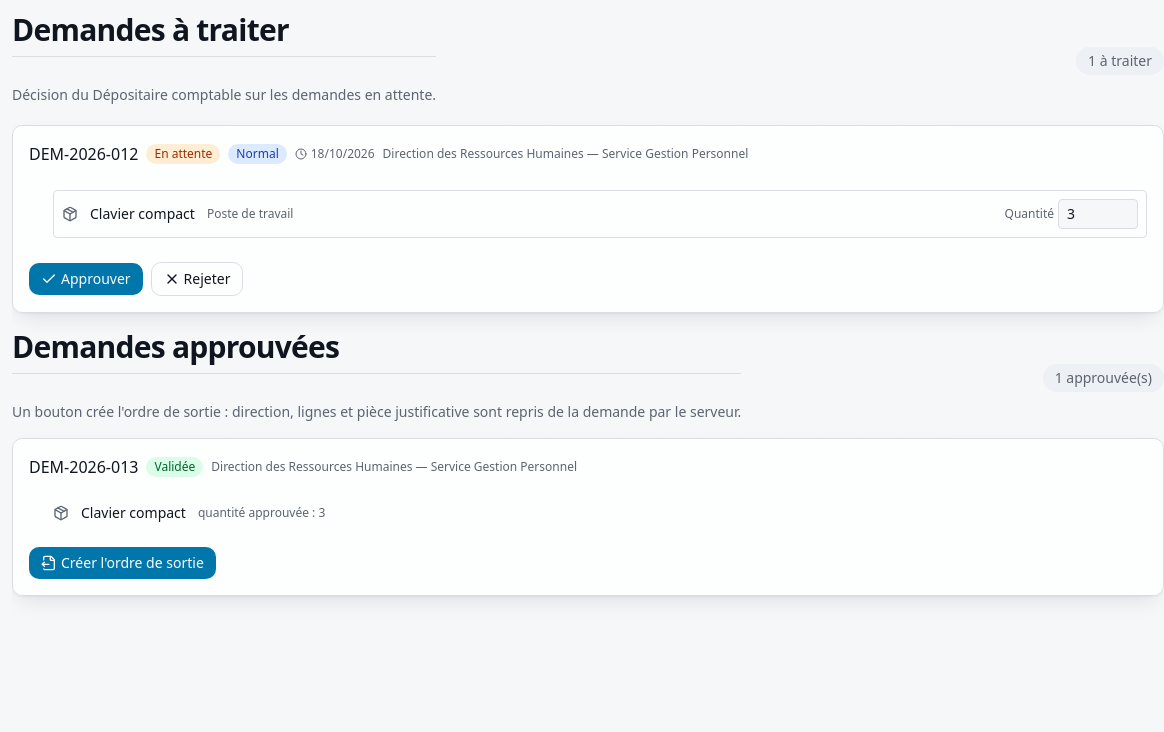
Test: DecisionRequests — décision du Dépositaire sur les demandes en base › refuse d'envoyer un rejet SANS motif
Expected: the text "DEM-2026-012" is shown, top-left (29, 142), bottom-right (138, 166)
Click the button "Rejeter" at (197, 279), box top-left (151, 262), bottom-right (244, 296)
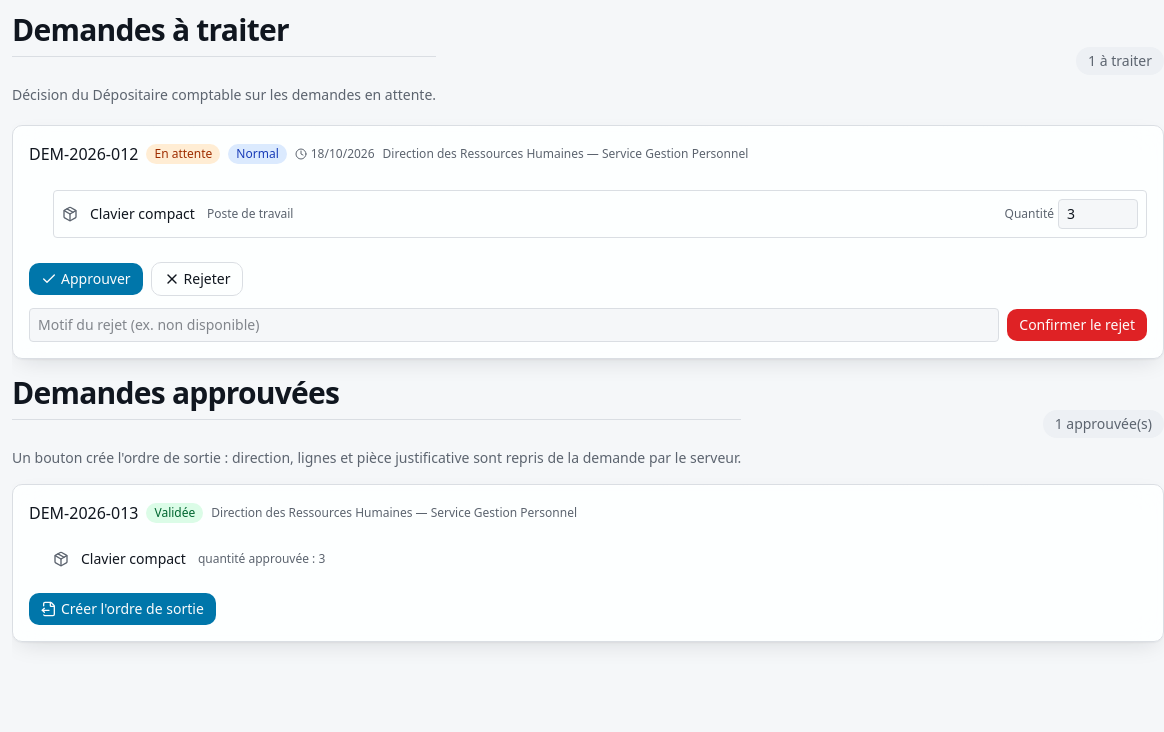
Click the button "Confirmer le rejet" at (1077, 325), box top-left (1007, 309), bottom-right (1147, 341)
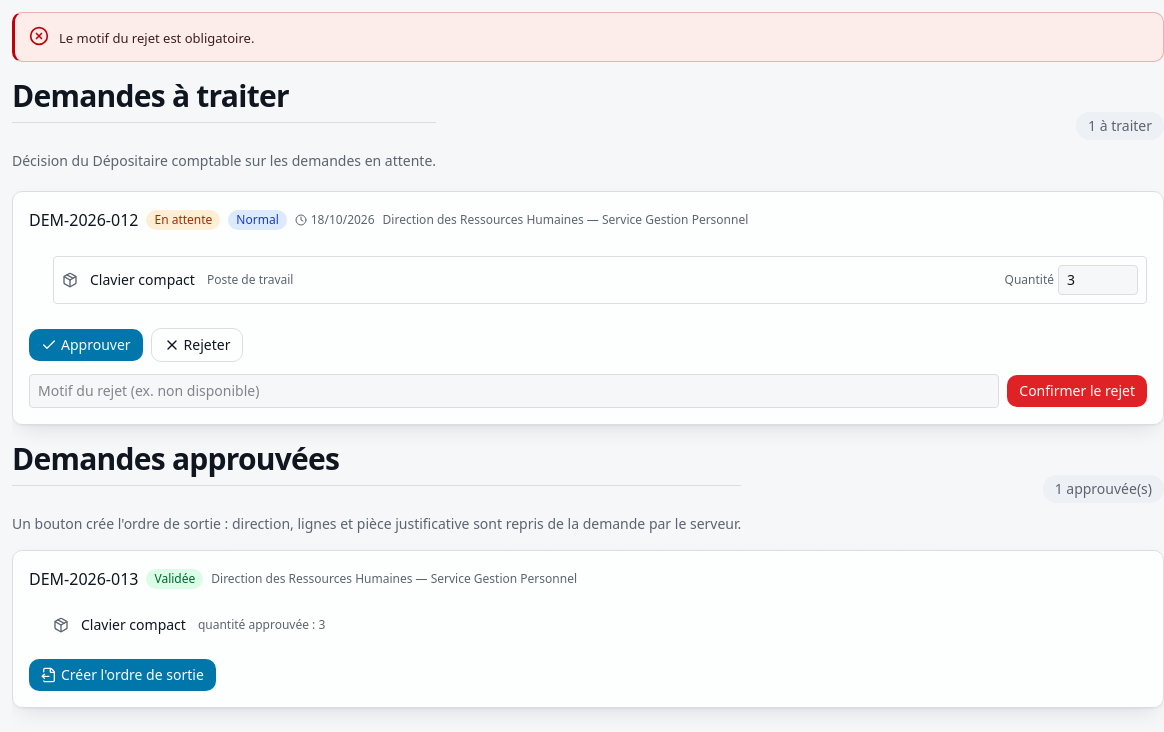
Now the text "Le motif du rejet est obligatoire." is shown, box top-left (59, 29), bottom-right (254, 47)
